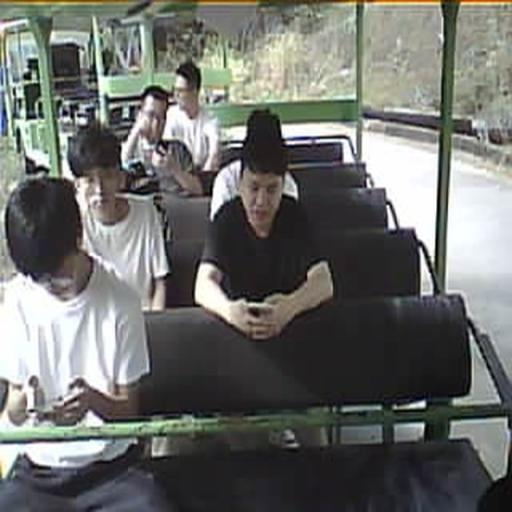persona: (0, 176, 152, 427), (193, 111, 335, 341), (66, 122, 172, 312), (209, 108, 302, 222), (120, 85, 204, 197), (162, 61, 220, 173)
